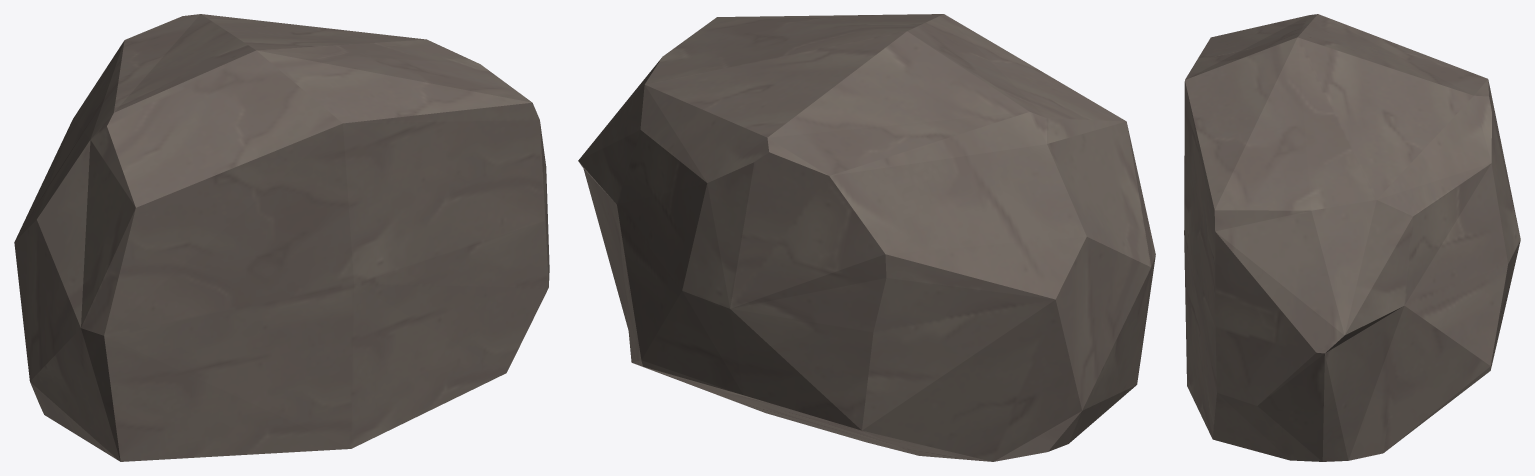
The model's file is rock-06.obj.
3 views of the same model, side by side, from view 1: azimuth 30°, elevation 25°; view 2: azimuth 150°, elevation 25°; view 3: azimuth 270°, elevation 25° (orthographic). The views are drawn at different scales.
Visible parts, largest first — view 1: rock-06_Circle.024; view 2: rock-06_Circle.024; view 3: rock-06_Circle.024.
Boxes of the visible parts, x1,y1,x2,y2 form: rock-06_Circle.024: (14, 14, 549, 461); rock-06_Circle.024: (578, 14, 1155, 461); rock-06_Circle.024: (1184, 14, 1520, 461).
Bounding box in the file's own units: 5.61 × 4.18 × 3.5.
